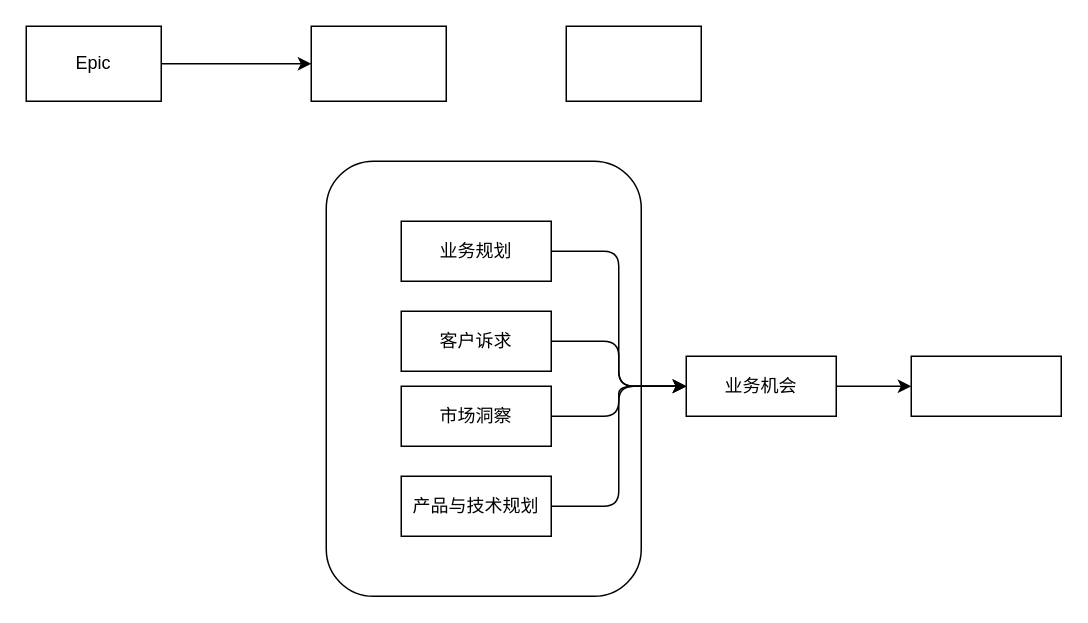
This 1088x623 diagram has some shape labels left out. The shapes that lost their labels are listed below. From the top down, each one's centre as x and y in pixels, then its label:
At point 378,63: "BR".
At point 633,63: "PF".
At point 985,385: "专题".
